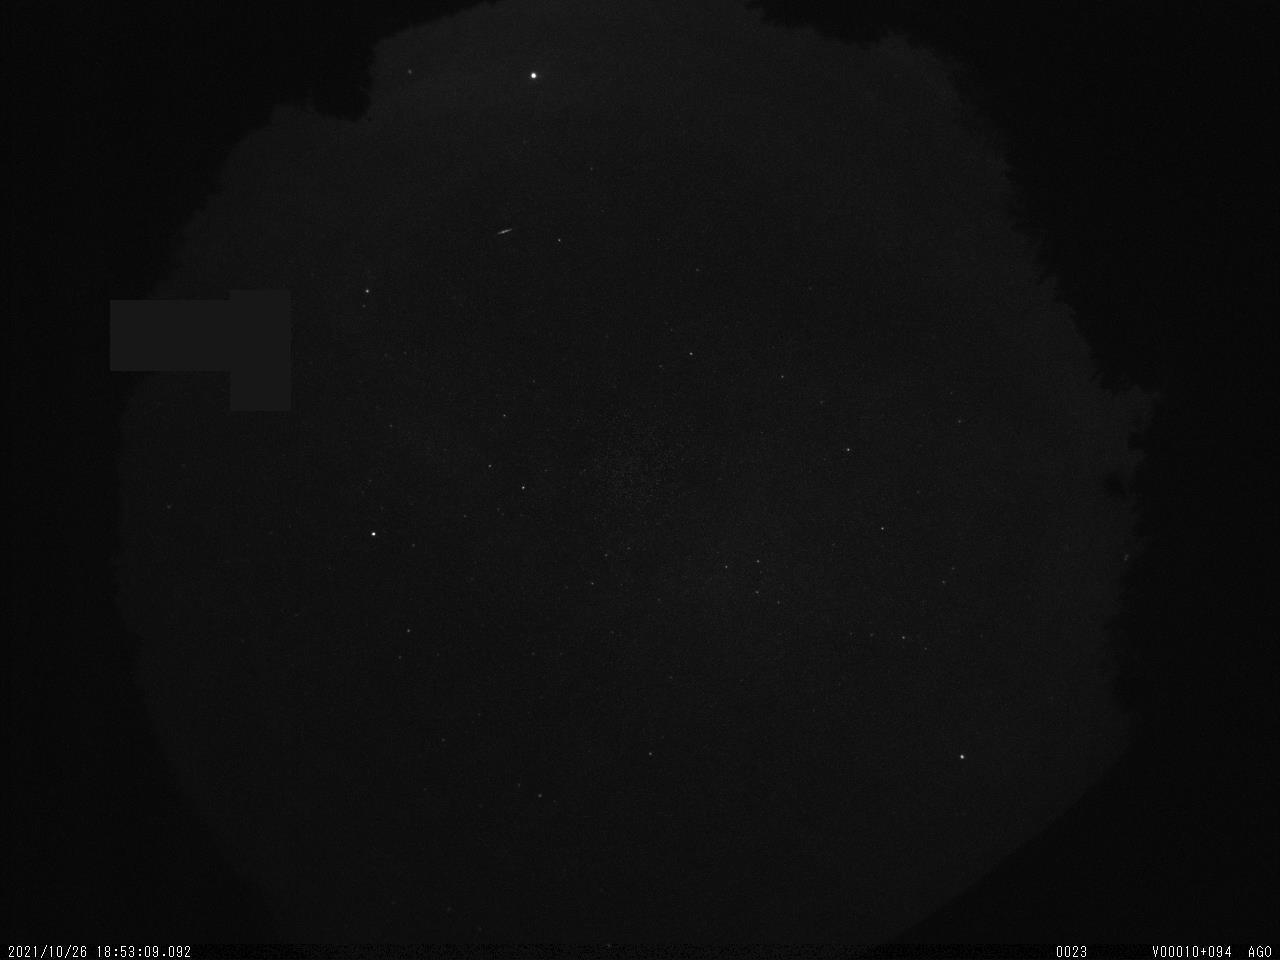meteor: (489, 220, 528, 242)
